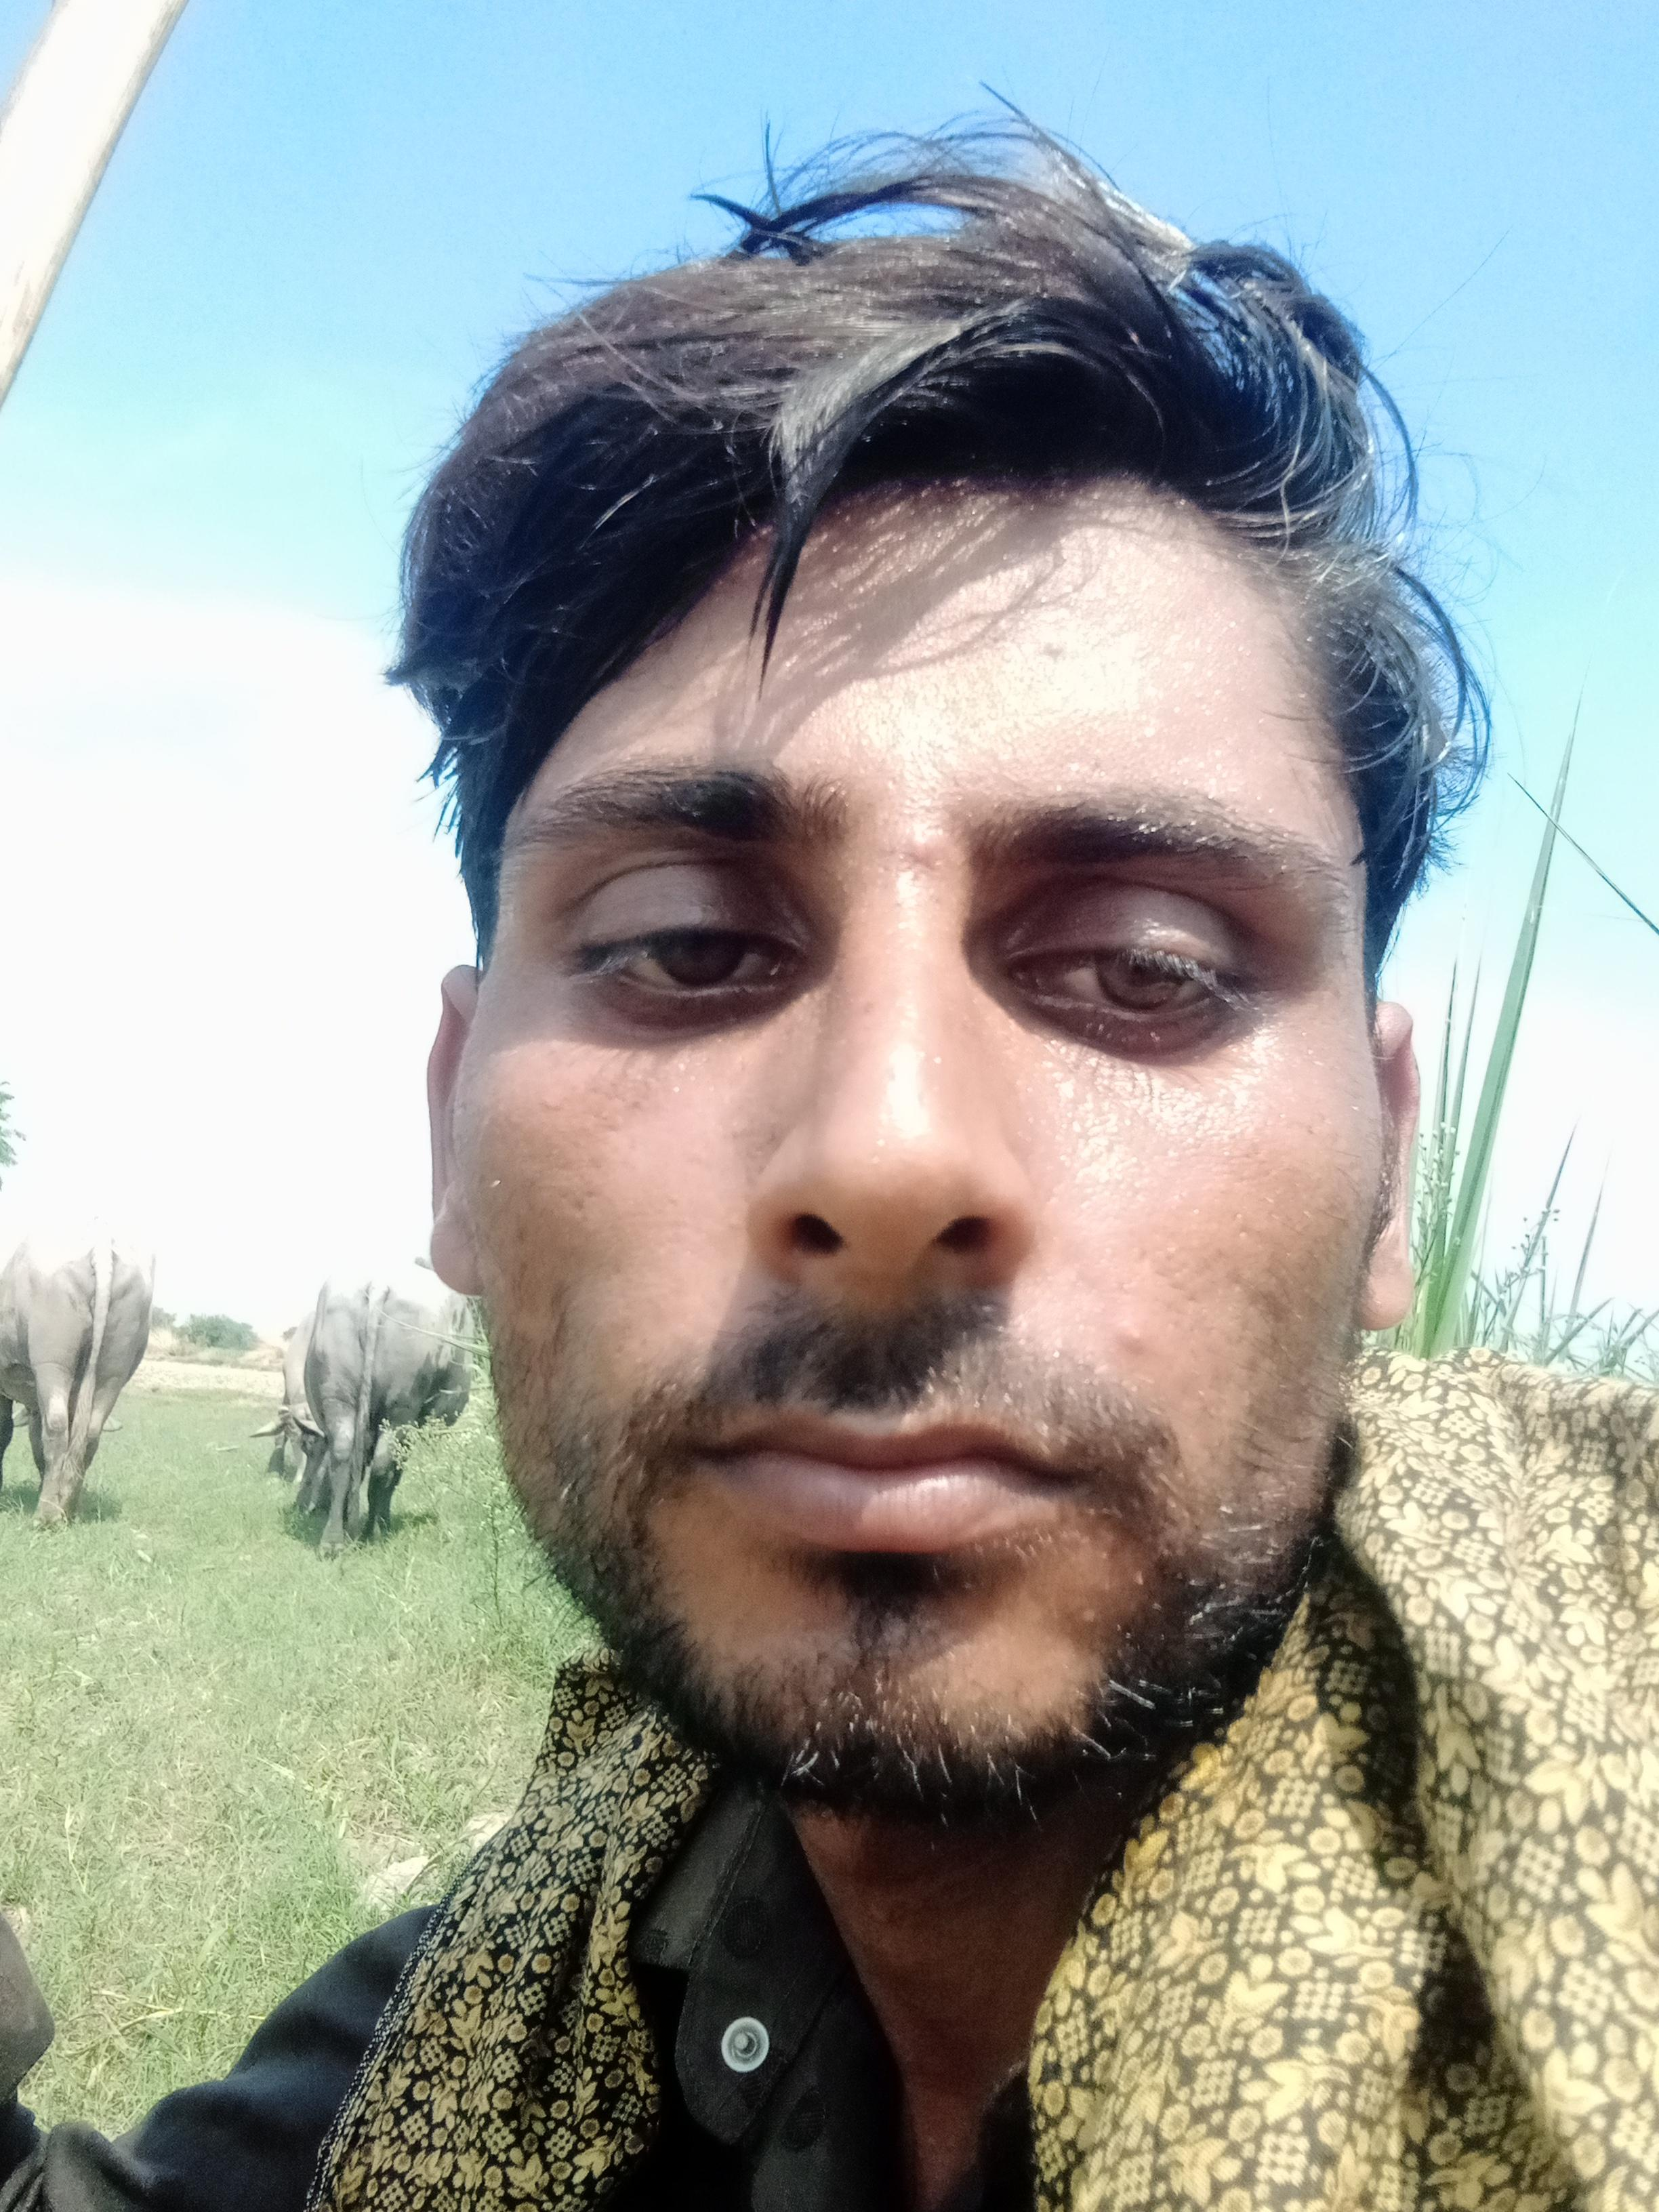Acne: (1023, 627, 1077, 679), (1110, 1308, 1164, 1353), (897, 829, 945, 867)
Englarged-Pores: (549, 1165, 624, 1261)
